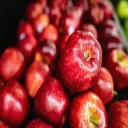apple: (24, 61, 49, 99)
